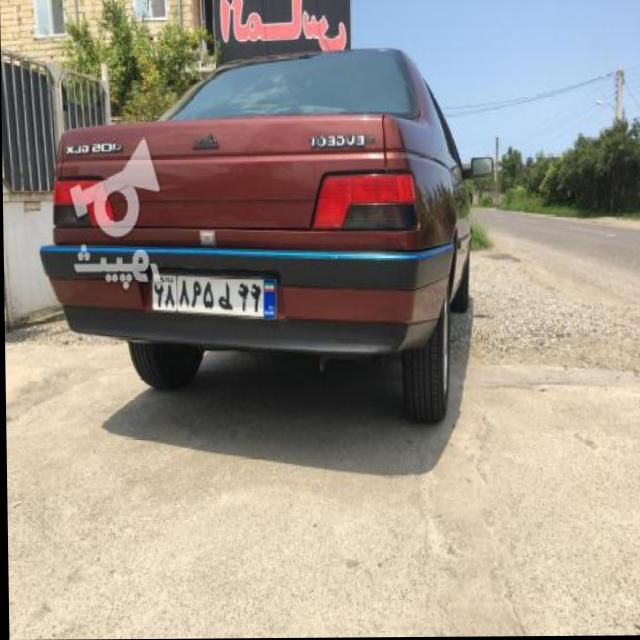licence: (151, 269, 278, 319)
